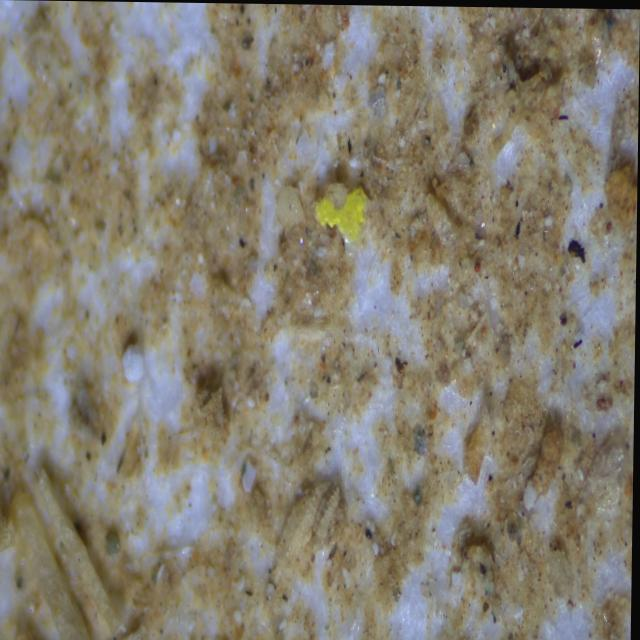microplastic: (310, 178, 385, 263)
